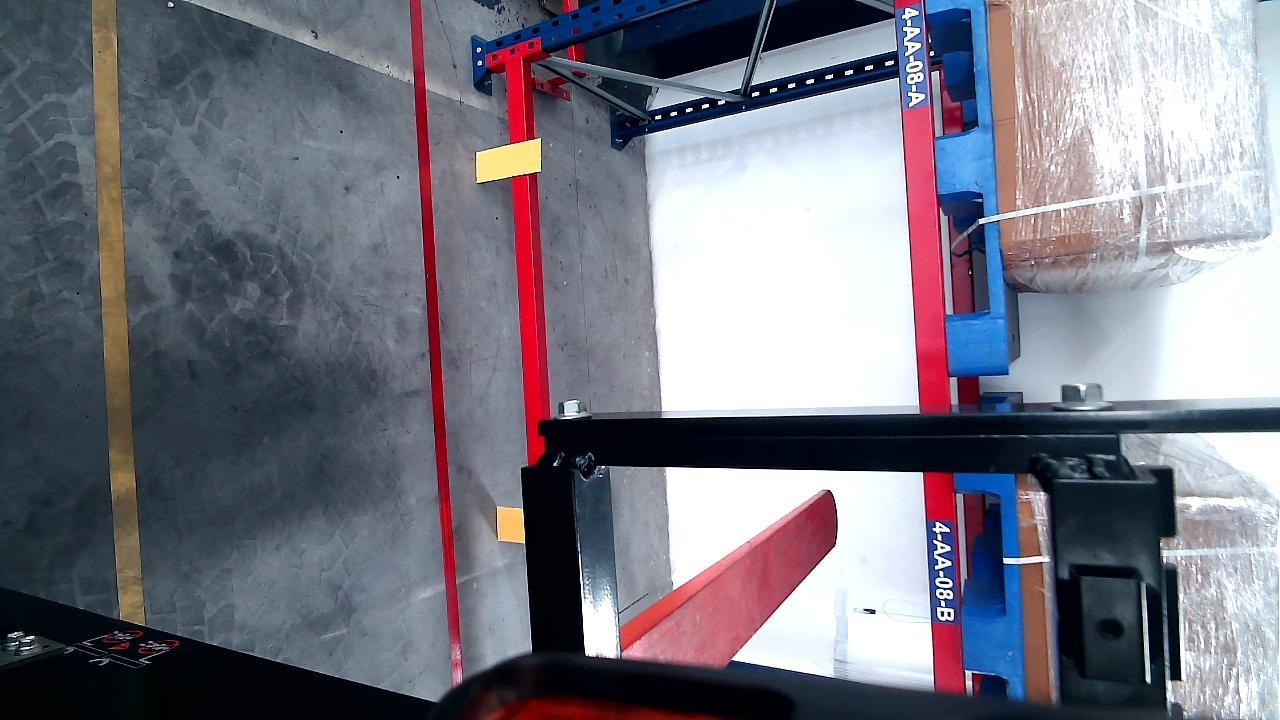red_line: (411, 1, 462, 685)
yellow_line: (90, 0, 145, 628)
